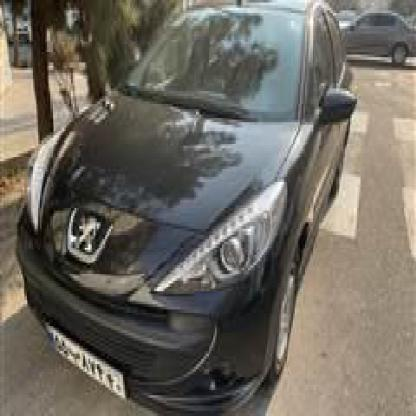car: (12, 0, 356, 414), (328, 0, 414, 78)
